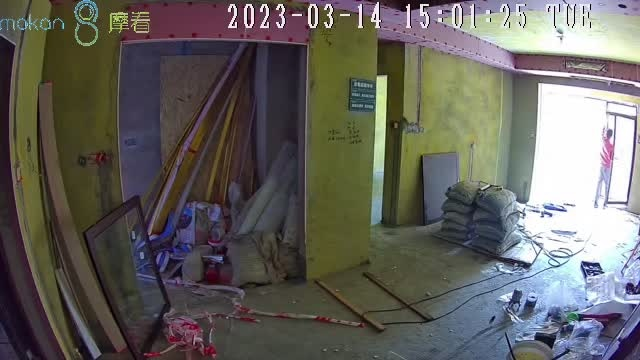people: (594, 128, 614, 209)
window: (541, 92, 632, 207)
